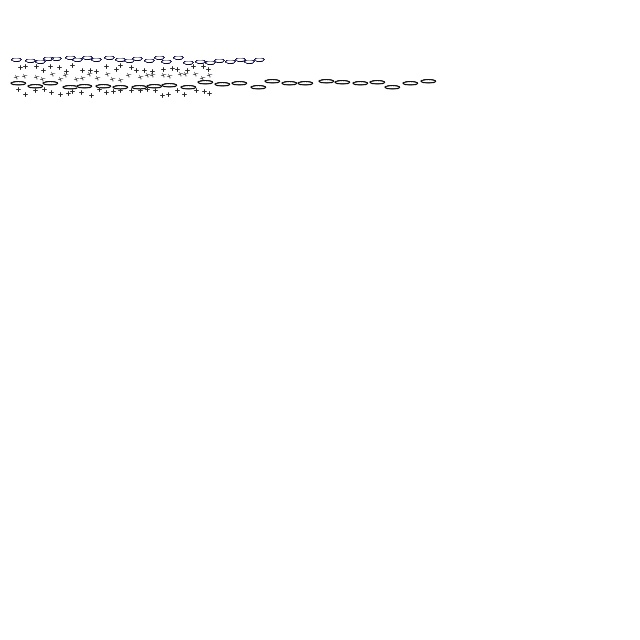chain: (130, 84, 150, 92), (160, 82, 180, 90), (230, 80, 250, 88), (280, 80, 300, 88), (296, 80, 316, 88), (10, 80, 28, 88), (42, 80, 60, 88), (62, 84, 80, 92), (112, 84, 130, 92), (180, 84, 198, 92), (250, 84, 268, 92), (264, 78, 282, 86), (318, 78, 336, 86), (352, 80, 370, 88), (384, 84, 402, 92), (402, 80, 420, 88), (420, 78, 438, 86), (24, 56, 38, 66), (42, 54, 56, 64), (50, 54, 64, 64), (182, 58, 196, 68), (204, 58, 218, 68), (124, 56, 136, 66), (132, 54, 144, 64), (144, 56, 156, 66), (214, 56, 226, 66), (26, 84, 46, 90), (94, 84, 114, 90), (196, 80, 216, 86), (368, 80, 388, 86), (10, 56, 24, 64), (34, 58, 48, 66), (64, 54, 78, 62), (90, 56, 104, 64), (114, 56, 128, 64), (160, 58, 174, 66), (172, 54, 186, 62), (194, 58, 208, 66), (224, 58, 238, 66), (234, 56, 248, 64), (76, 84, 94, 90), (146, 84, 164, 90), (214, 82, 232, 88), (334, 80, 352, 86), (72, 56, 84, 64), (82, 54, 94, 62), (104, 54, 116, 62), (154, 54, 166, 62), (244, 58, 256, 66), (254, 56, 266, 64)
double: (62, 72, 70, 78), (86, 71, 94, 77), (94, 75, 102, 81), (104, 71, 112, 77), (144, 72, 152, 78), (160, 72, 168, 78), (166, 73, 174, 79), (182, 71, 190, 77), (192, 71, 200, 77), (206, 72, 214, 78), (34, 64, 40, 70), (48, 64, 54, 70), (80, 68, 86, 74), (88, 68, 94, 74), (104, 64, 110, 70), (134, 68, 140, 74), (142, 68, 148, 74), (170, 66, 176, 72), (14, 74, 20, 80), (22, 73, 28, 79), (34, 74, 40, 80), (40, 76, 46, 82), (50, 71, 56, 77), (58, 76, 64, 82), (74, 76, 80, 82), (80, 75, 86, 81), (110, 76, 116, 82), (118, 77, 124, 83), (126, 72, 132, 78), (138, 74, 144, 80), (150, 72, 156, 78), (178, 71, 184, 77), (200, 75, 206, 81), (58, 92, 64, 98), (104, 90, 110, 96), (118, 88, 124, 94), (138, 88, 144, 94), (166, 92, 172, 98), (182, 92, 188, 98), (194, 88, 200, 94), (18, 66, 24, 70), (24, 64, 28, 70), (42, 68, 46, 74), (64, 70, 70, 74), (70, 64, 76, 68), (94, 70, 100, 74), (114, 68, 120, 72), (118, 64, 124, 68), (150, 70, 156, 74), (186, 68, 190, 74), (192, 64, 196, 70), (202, 64, 206, 70), (206, 68, 212, 72), (16, 88, 22, 92), (24, 92, 28, 98), (34, 88, 38, 94), (42, 88, 48, 92), (50, 90, 54, 96), (66, 92, 72, 96), (70, 90, 76, 94), (80, 90, 84, 96), (130, 88, 134, 94), (154, 88, 158, 94), (160, 94, 166, 98), (176, 88, 180, 94), (202, 90, 208, 94), (58, 66, 62, 70), (130, 66, 134, 70), (162, 68, 166, 72), (176, 68, 180, 72), (90, 94, 94, 98), (98, 88, 102, 92), (112, 90, 116, 94), (146, 88, 150, 92), (208, 92, 212, 96)
